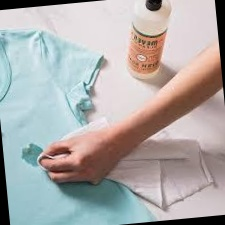oil: (18, 142, 37, 167), (29, 140, 47, 154)
